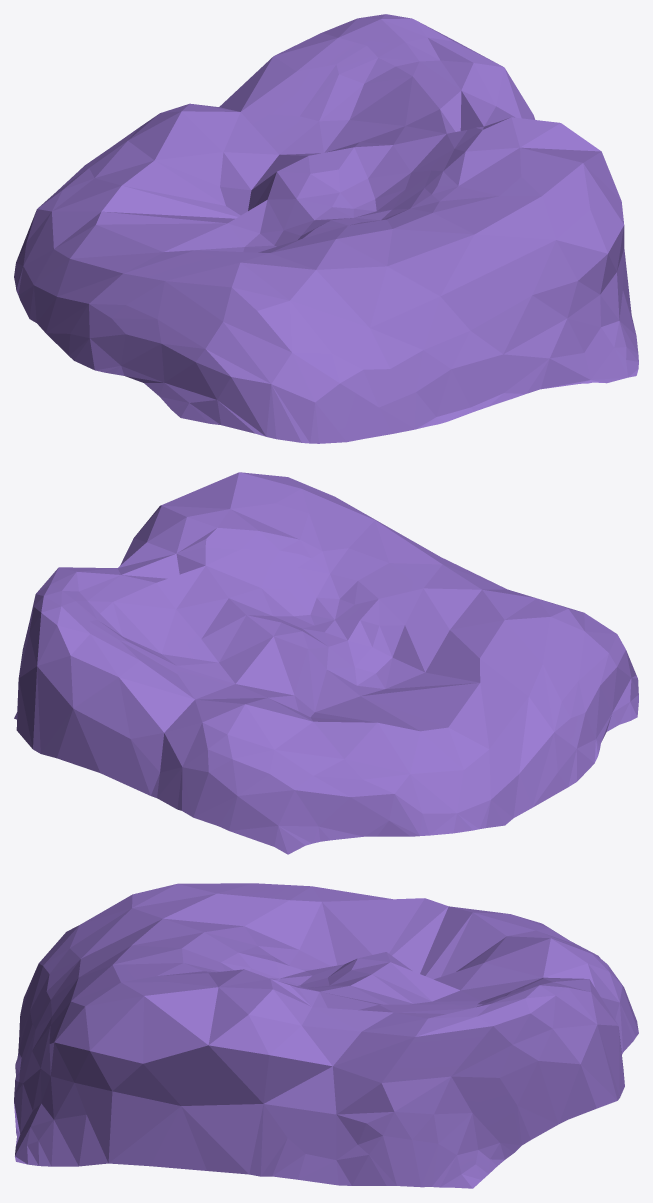
The model's file is ground_025.fbx.
3 renders of one model, top to bottom at view 1: azimuth 30°, elevation 25°; view 2: azimuth 150°, elevation 25°; view 3: azimuth 270°, elevation 25°, orthographic. The views are drawn at different scales.
Parts seen in each view (by area): view 1: ground.025; view 2: ground.025; view 3: ground.025.
Part boxes in pixels (left/top/right/bottom): ground.025: left=14, top=14, right=638, bottom=443; ground.025: left=14, top=472, right=638, bottom=854; ground.025: left=14, top=883, right=638, bottom=1188.
Bounding box in the file's own units: 2343 × 748 × 2399.
Materials: 1 (1 with a texture image).
